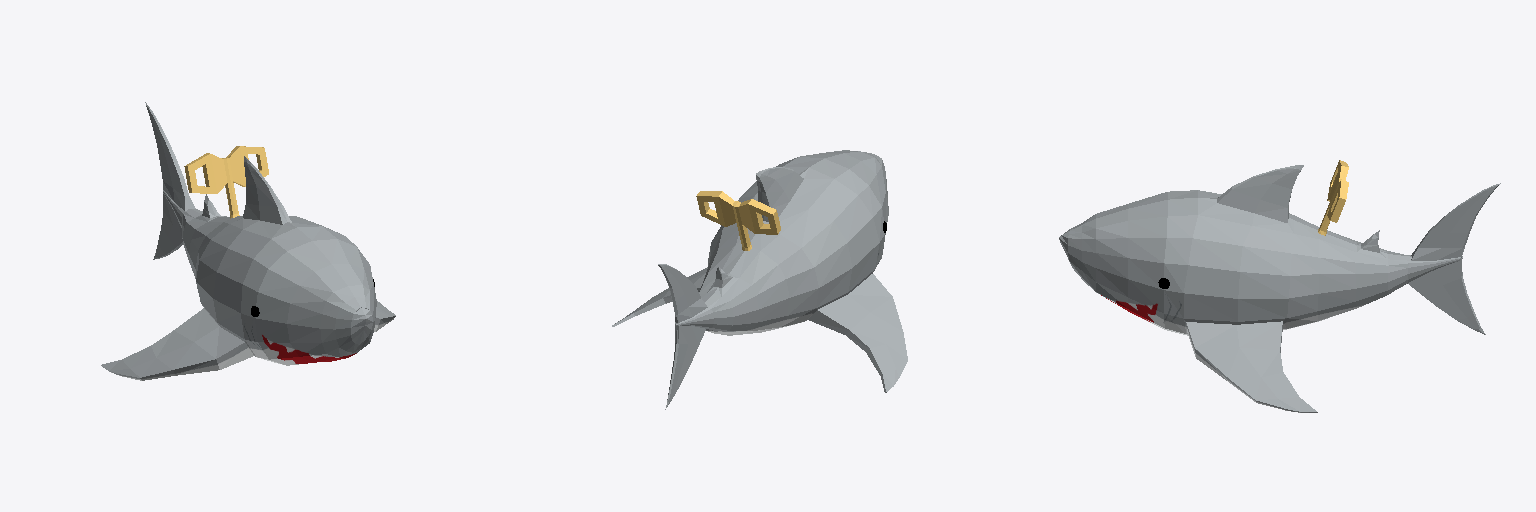
3 renders of one model, left to right at view 1: azimuth 30°, elevation 25°; view 2: azimuth 150°, elevation 25°; view 3: azimuth 270°, elevation 25°, orthographic.
Parts seen in each view (by area): view 1: Cube.001; view 2: Cube.001; view 3: Cube.001.
Boxes of the visible parts, box(x1,y1,x2,y2) form: Cube.001: box(101, 102, 395, 380); Cube.001: box(612, 150, 907, 409); Cube.001: box(1059, 160, 1500, 412).
Size of the model in its own units: 3.49 by 2.22 by 4.88.
Materials: 1 (1 with a texture image).